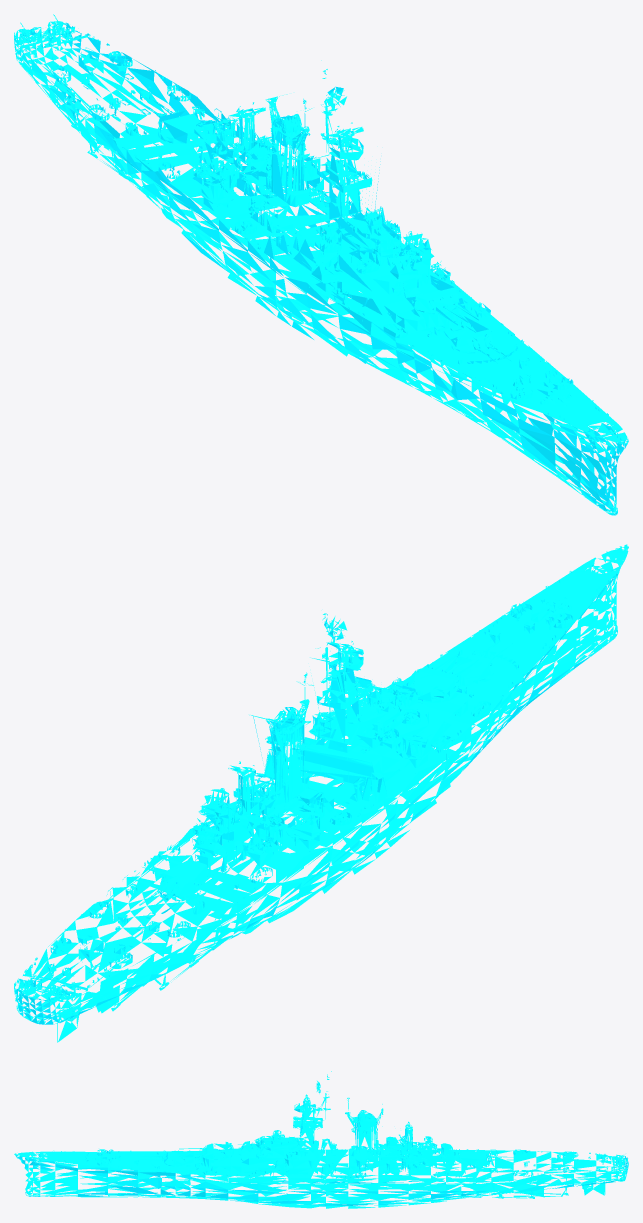
The model's file is Congress.glb.
3 views of the same model, one above another, from view 1: azimuth 30°, elevation 25°; view 2: azimuth 150°, elevation 25°; view 3: azimuth 270°, elevation 25° (orthographic). The views are drawn at different scales.
Bounding box in the file's own units: 1.83 × 3.7 × 16.42.
